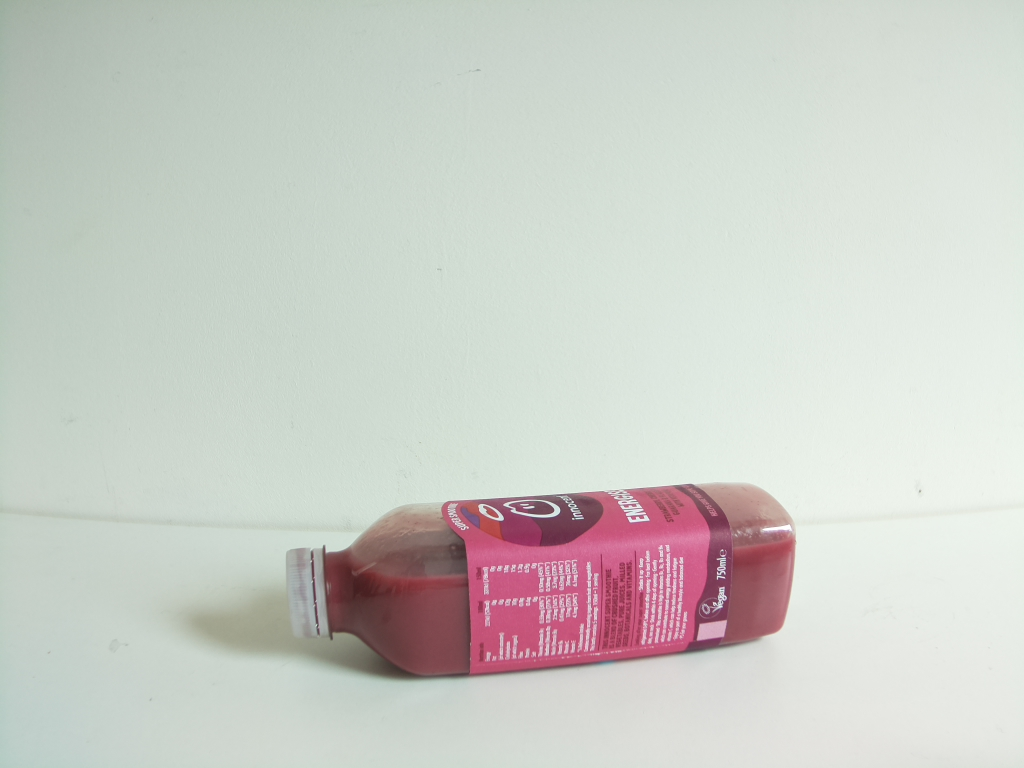juice: (289, 482, 796, 682)
